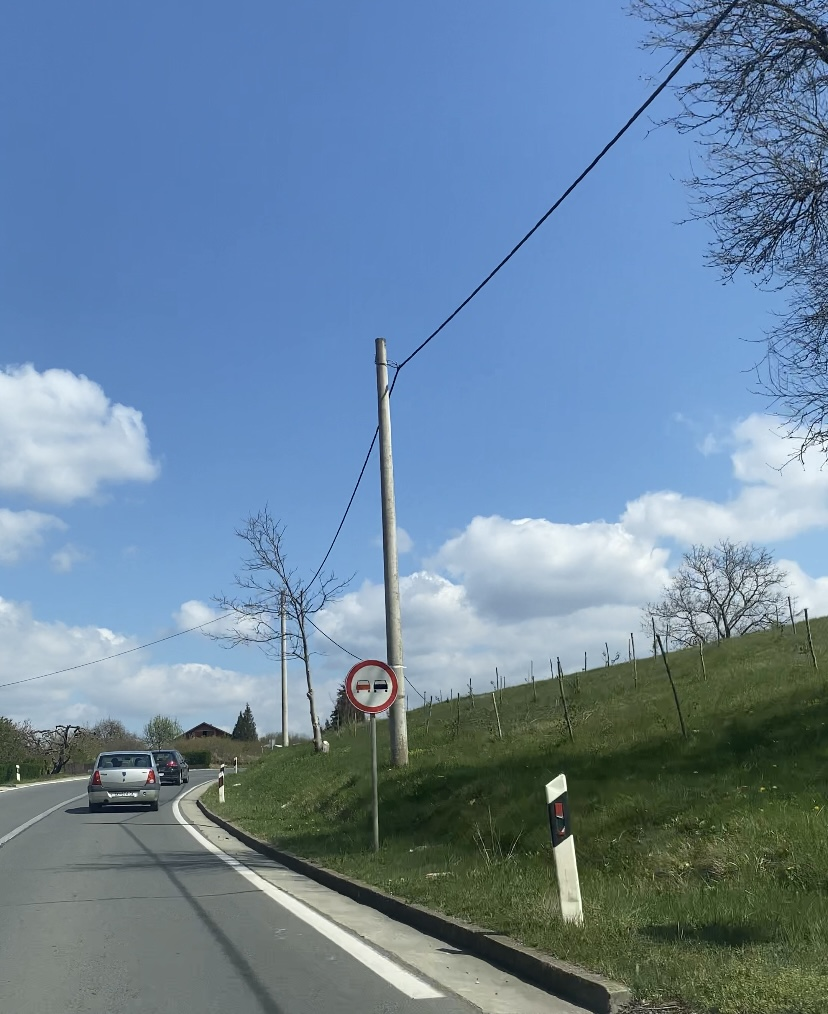Zabrana pretjecanja: (346, 659, 398, 713)
